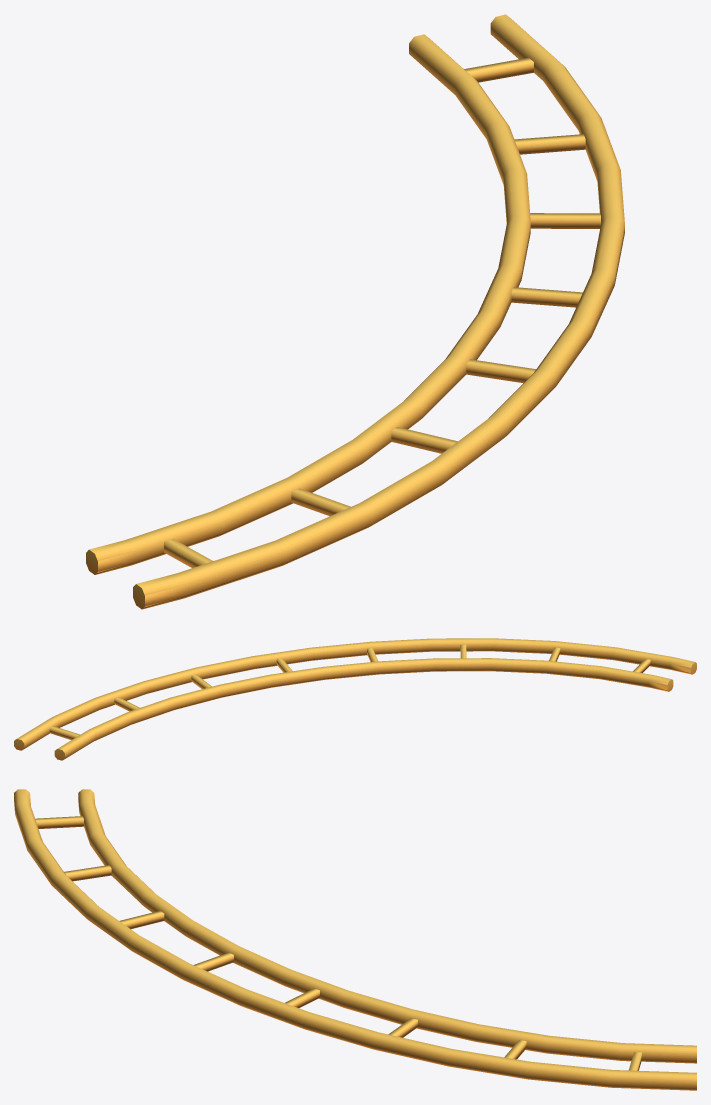
The model's file is coaster-mouse-corner-large.glb.
3 views of the same model, one above another, from view 1: azimuth 30°, elevation 25°; view 2: azimuth 150°, elevation 25°; view 3: azimuth 270°, elevation 25° (orthographic). The views are drawn at different scales.
Visible parts, largest first — view 1: coaster-mouse-corner-large; view 2: coaster-mouse-corner-large; view 3: coaster-mouse-corner-large.
Part boxes in pixels (bbox=[...]): coaster-mouse-corner-large: bbox=[86, 14, 624, 609]; coaster-mouse-corner-large: bbox=[14, 638, 696, 760]; coaster-mouse-corner-large: bbox=[14, 789, 696, 1090].
Bounding box in the file's own units: 12.75 × 0.3 × 12.75.
Materials: 1 (1 with a texture image).
